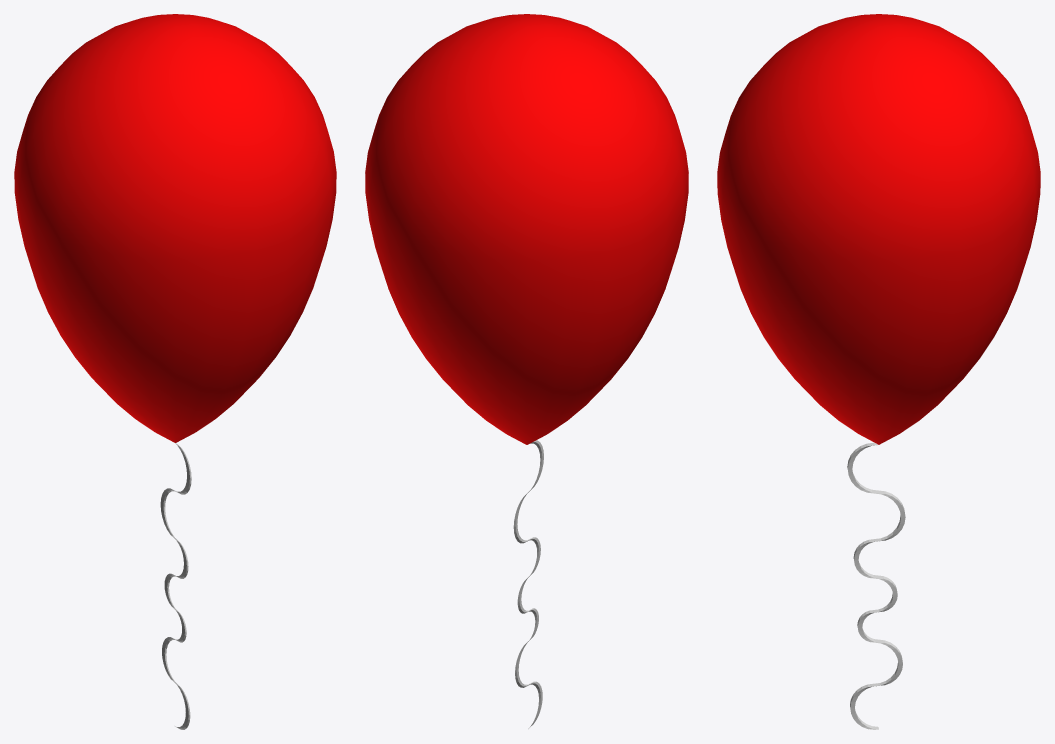
The model's file is balloon.dae.
3 renders of one model, left to right at view 1: azimuth 30°, elevation 25°; view 2: azimuth 150°, elevation 25°; view 3: azimuth 270°, elevation 25°, orthographic.
Parts seen in each view (by area): view 1: SketchUp; view 2: SketchUp; view 3: SketchUp.
Part boxes in pixels (x1,y1,x2,y2): SketchUp: [14, 14, 336, 729]; SketchUp: [365, 14, 688, 728]; SketchUp: [717, 14, 1040, 729].
Bounding box in the file's own units: 3.28 × 3.28 × 7.88.
